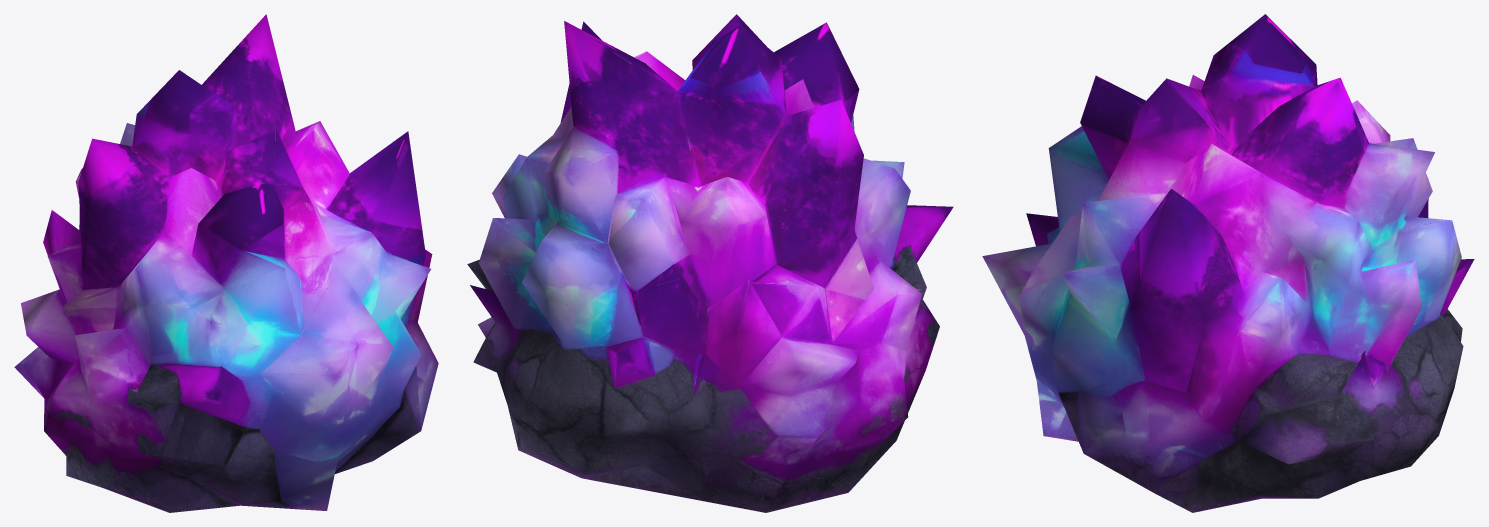
Rendered from p_vibrant_han.glb.
3 renders of one model, left to right at view 1: azimuth 30°, elevation 25°; view 2: azimuth 150°, elevation 25°; view 3: azimuth 270°, elevation 25°, orthographic. The views are drawn at different scales.
Visible parts, largest first — view 1: Mesh_0; view 2: Mesh_0; view 3: Mesh_0.
Boxes of the visible parts, left/top/right/bottom form: Mesh_0: left=14, top=14, right=438, bottom=512; Mesh_0: left=467, top=14, right=953, bottom=512; Mesh_0: left=982, top=14, right=1474, bottom=512.
Size of the model in its own units: 1.81 by 1.79 by 1.94.
Materials: 1 (1 with a texture image).
